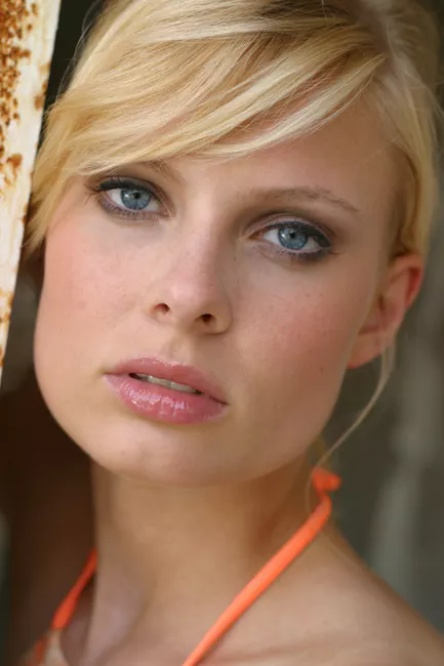face: (33, 51, 384, 486)
